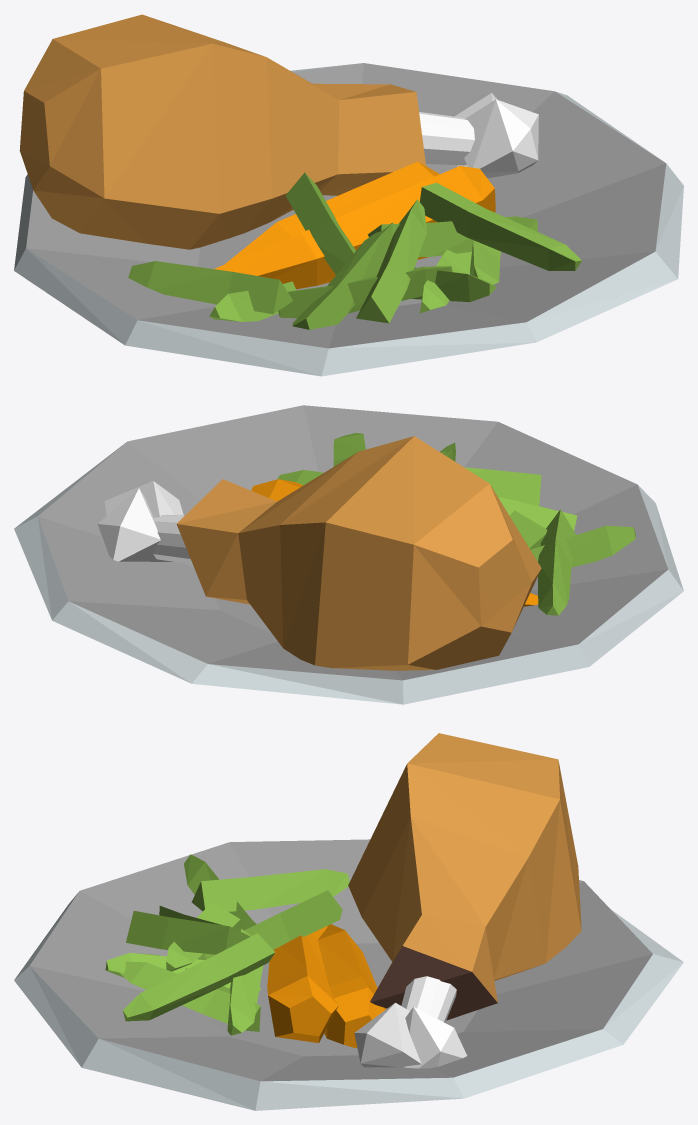
Rendered from Food.glb.
The picture shows the model from 3 angles, top to bottom: view 1: azimuth 30°, elevation 25°; view 2: azimuth 150°, elevation 25°; view 3: azimuth 270°, elevation 25°; orthographic projection. The views are drawn at different scales.
Parts seen in each view (by area): view 1: Food; view 2: Food; view 3: Food.
Part boxes in pixels (<box>): Food: <box>14,14,683,376</box>; Food: <box>14,405,683,704</box>; Food: <box>14,733,683,1110</box>.
Bounding box in the file's own units: 0.4249 × 0.1719 × 0.4507.
